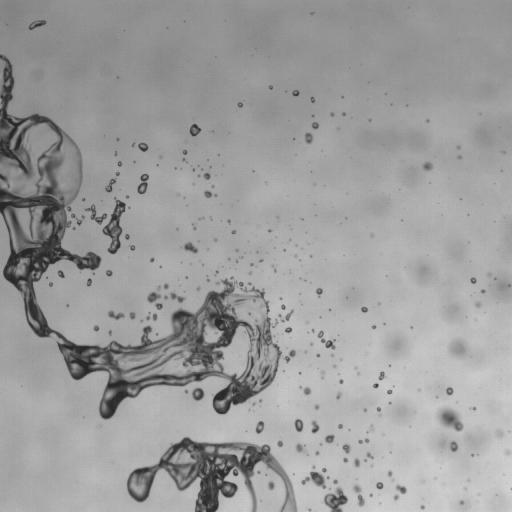droplet: (436, 406, 463, 431), (322, 487, 347, 511), (301, 466, 328, 488), (85, 204, 106, 224), (449, 338, 467, 358), (147, 287, 162, 309), (393, 484, 406, 499), (192, 387, 204, 401), (71, 213, 84, 225), (183, 242, 197, 253), (189, 124, 200, 136), (294, 419, 303, 431), (311, 420, 319, 433), (255, 421, 263, 433), (138, 142, 148, 151), (295, 443, 305, 452), (422, 162, 433, 170), (204, 190, 216, 197), (325, 434, 334, 443), (342, 444, 351, 453), (267, 480, 275, 490), (305, 132, 312, 143), (146, 313, 157, 320), (450, 441, 457, 451), (303, 387, 311, 395), (57, 270, 64, 278), (446, 387, 453, 395), (379, 371, 385, 380), (496, 430, 503, 437), (376, 482, 383, 489), (316, 288, 322, 296), (354, 458, 359, 467), (312, 122, 318, 129), (203, 173, 210, 179), (129, 312, 135, 319), (106, 270, 112, 276), (470, 277, 476, 283), (361, 306, 367, 312), (93, 325, 99, 331), (285, 327, 291, 333), (366, 452, 372, 458), (86, 279, 91, 286), (277, 440, 282, 447), (292, 90, 298, 95), (336, 392, 341, 398), (505, 450, 511, 455), (237, 102, 242, 107), (129, 245, 134, 250), (475, 302, 480, 307), (373, 383, 378, 388), (387, 389, 392, 394), (314, 404, 319, 409), (387, 471, 392, 476), (470, 406, 476, 410), (310, 97, 314, 102), (182, 150, 187, 154), (117, 161, 121, 166), (192, 224, 196, 229), (125, 234, 129, 239), (164, 284, 168, 289), (333, 479, 337, 484), (150, 257, 154, 261), (481, 289, 485, 293), (281, 305, 285, 309), (339, 379, 343, 383), (338, 424, 342, 428), (343, 458, 347, 462), (459, 500, 463, 504), (420, 505, 424, 509), (315, 451, 318, 455), (269, 85, 272, 88), (330, 113, 333, 116), (114, 152, 117, 155), (458, 155, 461, 158), (182, 158, 185, 161), (115, 172, 118, 175), (227, 220, 230, 223), (232, 230, 235, 233), (196, 287, 199, 290), (372, 325, 375, 328), (108, 331, 111, 334), (377, 408, 380, 411), (342, 113, 345, 115), (457, 146, 460, 148), (126, 195, 128, 198), (487, 273, 490, 275), (49, 283, 52, 285), (316, 354, 319, 356), (184, 390, 187, 392), (363, 409, 366, 411), (369, 494, 372, 496), (132, 144, 134, 146), (212, 185, 214, 187), (201, 217, 203, 219), (269, 230, 271, 232), (371, 234, 373, 236), (260, 259, 262, 261), (215, 272, 217, 274), (249, 272, 251, 274), (207, 278, 209, 280), (248, 282, 250, 284), (253, 403, 255, 405), (471, 454, 473, 456), (308, 509, 310, 511)
ligament: (0, 54, 295, 419), (126, 437, 297, 511), (102, 198, 126, 253), (317, 331, 335, 349), (163, 292, 185, 303), (353, 485, 364, 506), (137, 173, 148, 193), (28, 20, 46, 29), (108, 310, 124, 319), (105, 179, 115, 192), (359, 438, 369, 443), (367, 425, 373, 432), (321, 371, 324, 376)
